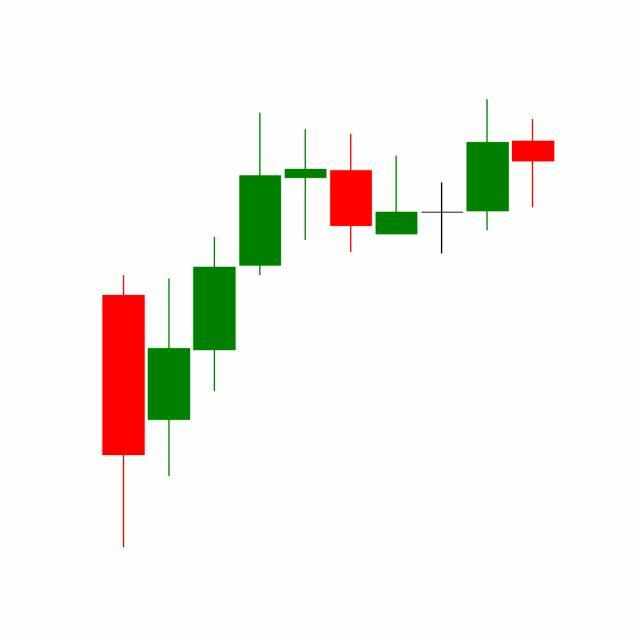Hikkake Pattern: (283, 99, 512, 257)
